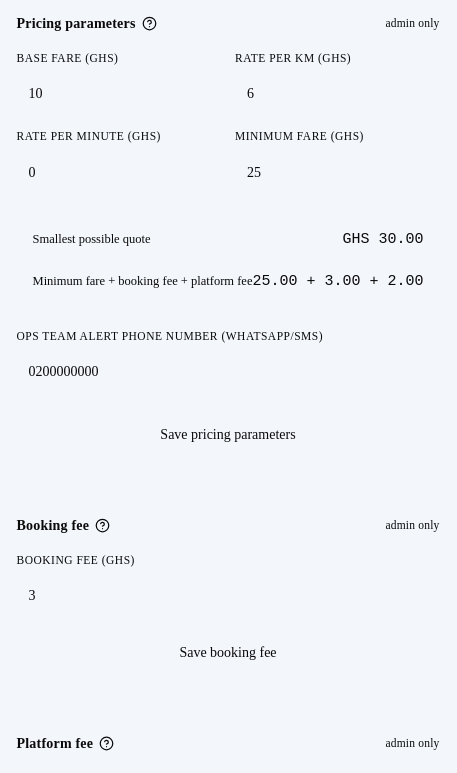
Scenario: PricingForm smallest possible quote › tracks the minimum fare box as well as the fee boxes
Clear the number field labelled "Minimum fare (GHS)": (337, 172) x1=235 y1=152 x2=440 y2=192
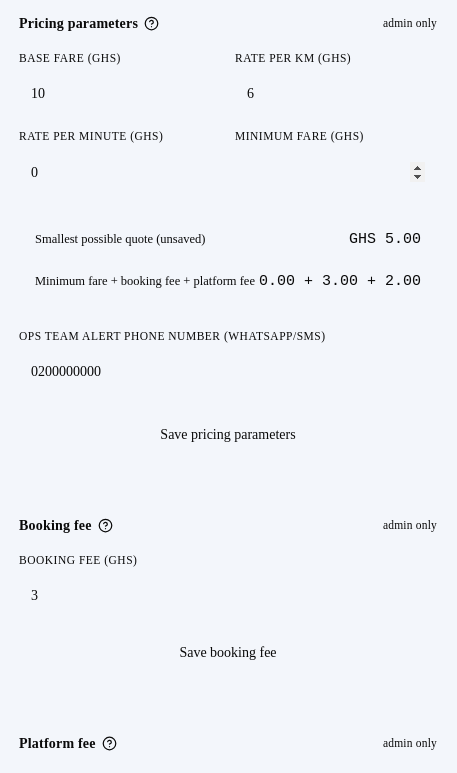
In the number field labelled "Minimum fare (GHS)": (336, 172) x1=235 y1=152 x2=437 y2=192, type "40"
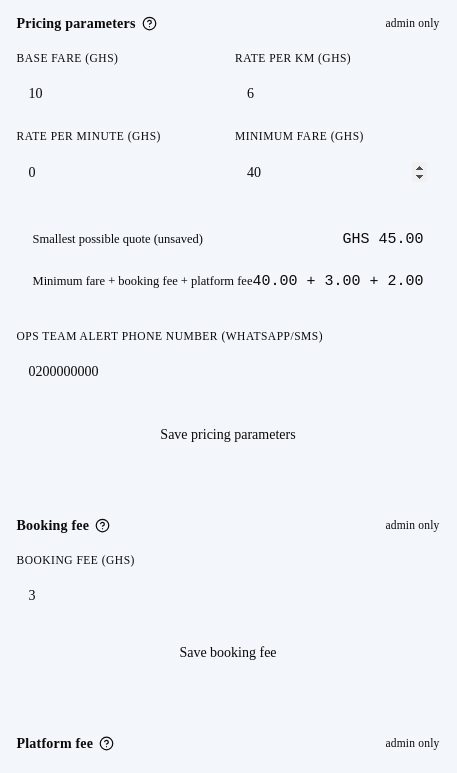
Now the text "GHS 45.00" is shown, box x1=342 y1=228 x2=424 y2=251
